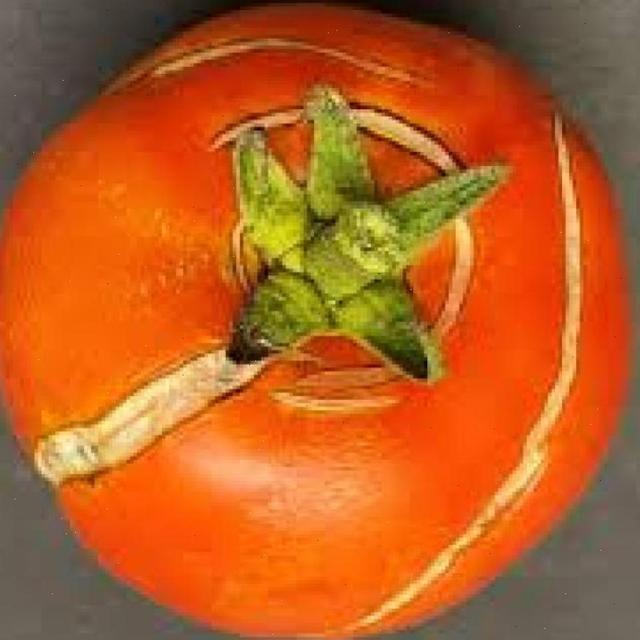Cracking Fruit: (170, 41, 314, 348)
